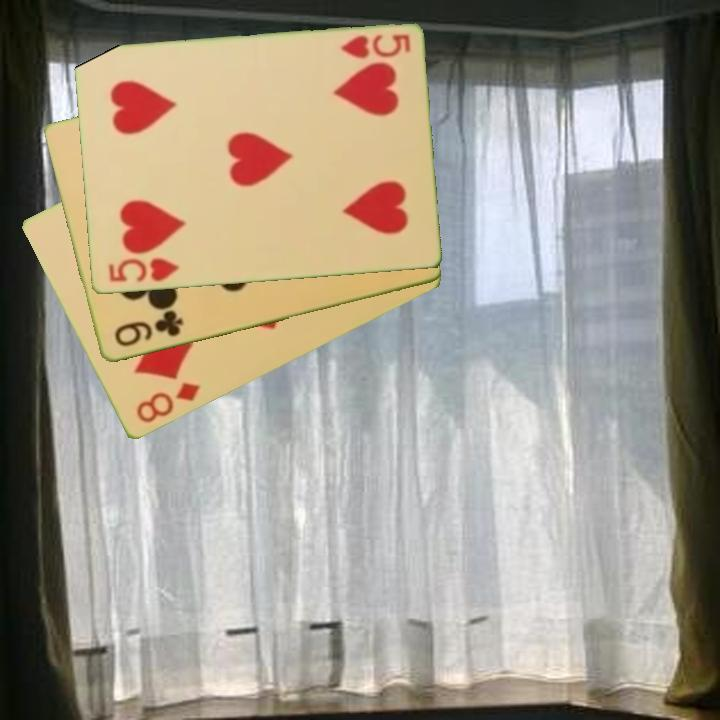5h: (104, 255, 182, 286), (337, 31, 413, 62)
8d: (132, 379, 203, 427)
9c: (110, 308, 186, 350)
